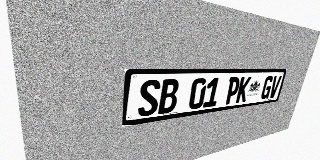0: (188, 78, 208, 110)
1: (203, 78, 221, 108)
B: (158, 79, 180, 114)
G: (260, 76, 274, 100)
K: (235, 77, 251, 103)
P: (224, 77, 241, 105)
S: (137, 79, 161, 117)
V: (268, 76, 282, 98)
